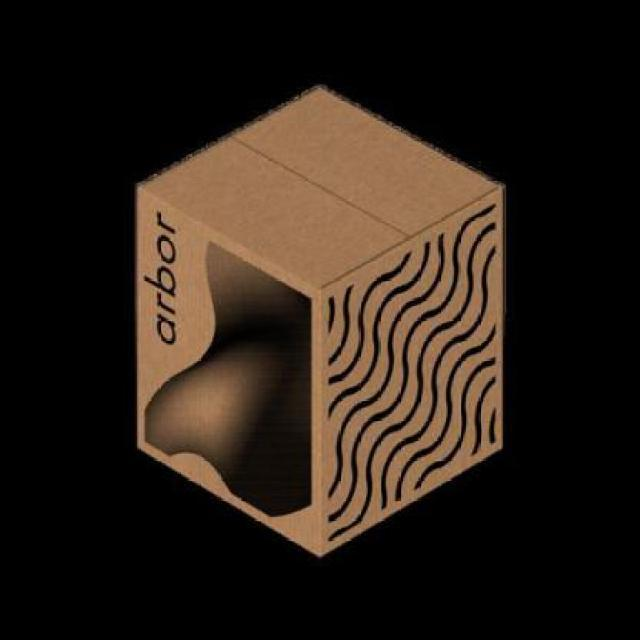box: (132, 86, 507, 561)
